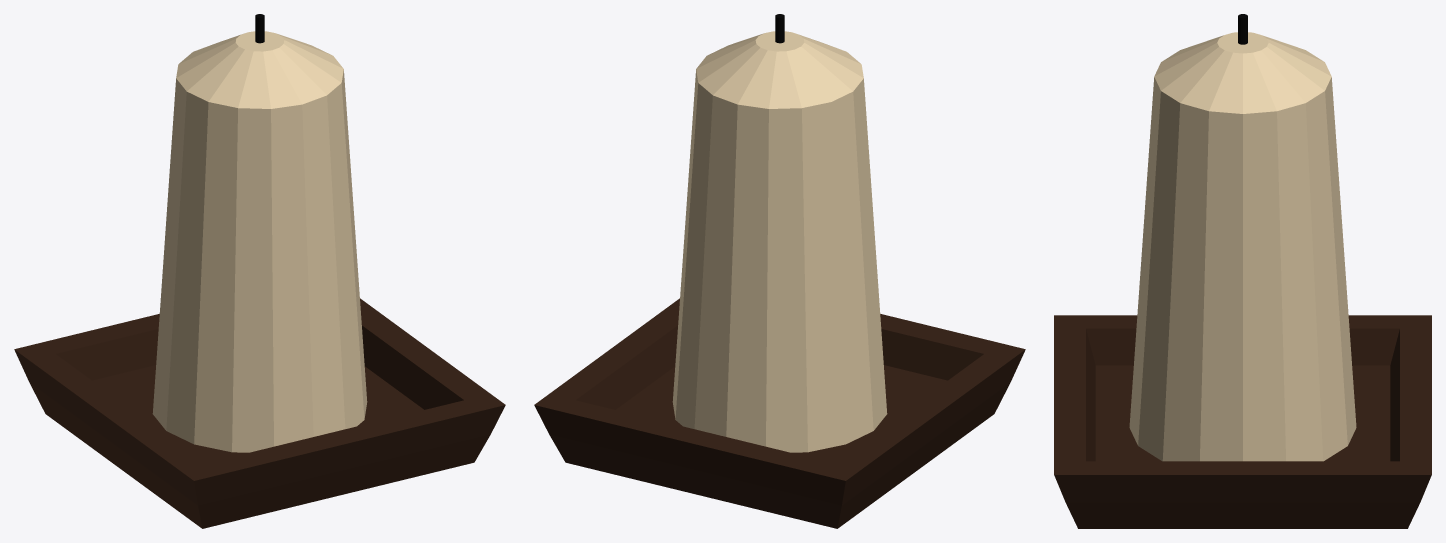
Rendered from candle.fbx.
The picture shows the model from 3 angles, left to right: view 1: azimuth 30°, elevation 25°; view 2: azimuth 150°, elevation 25°; view 3: azimuth 270°, elevation 25°; orthographic projection. The views are drawn at different scales.
Visible parts, largest first — view 1: Circle, Cube; view 2: Circle, Cube; view 3: Circle, Cube.
Boxes of the visible parts, box(x1,y1,x2,y2) form: Circle: box(152, 14, 367, 452); Cube: box(14, 298, 505, 528); Circle: box(672, 14, 887, 452); Cube: box(534, 298, 1025, 528); Circle: box(1129, 14, 1356, 461); Cube: box(1054, 315, 1431, 528).
Bounding box in the file's own units: 330 × 427 × 330.
